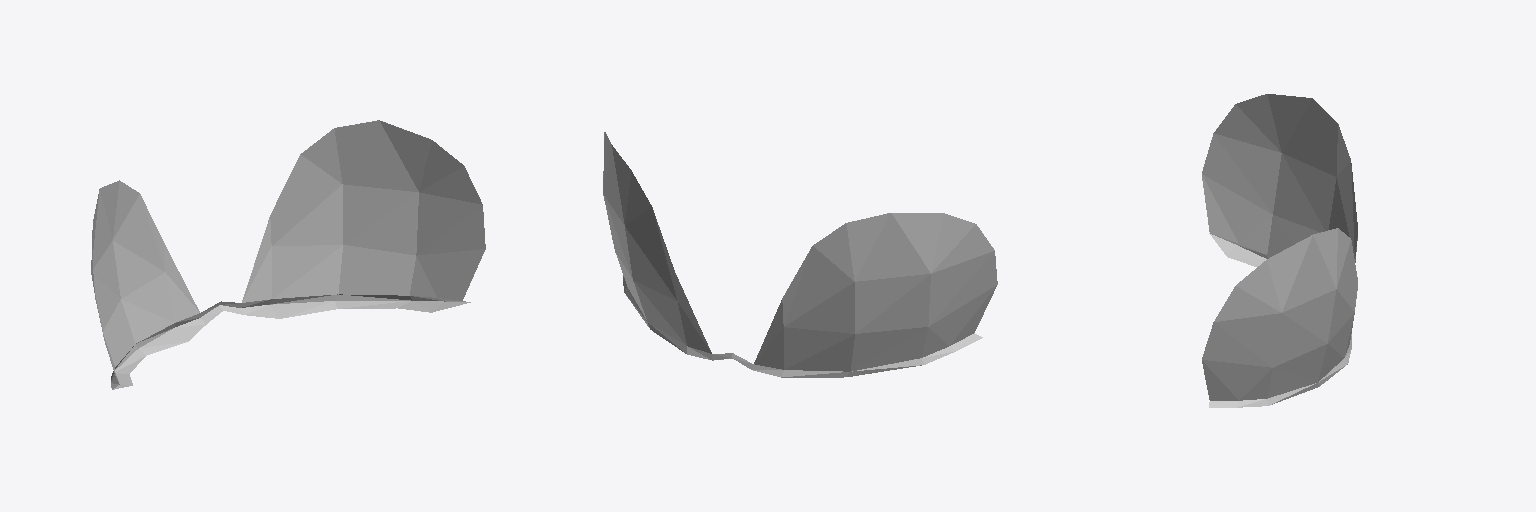
The model's file is Eyelids 3.obj.
3 views of the same model, side by side, from view 1: azimuth 30°, elevation 25°; view 2: azimuth 150°, elevation 25°; view 3: azimuth 270°, elevation 25° (orthographic).
Parts seen in each view (by area): view 1: undefined; view 2: undefined; view 3: undefined.
Part boxes in pixels (x1,y1,x2,y2): undefined: (91, 120, 485, 389); undefined: (603, 132, 997, 377); undefined: (1202, 94, 1357, 407).
Size of the model in its own units: 29.7 by 13.12 by 10.41.